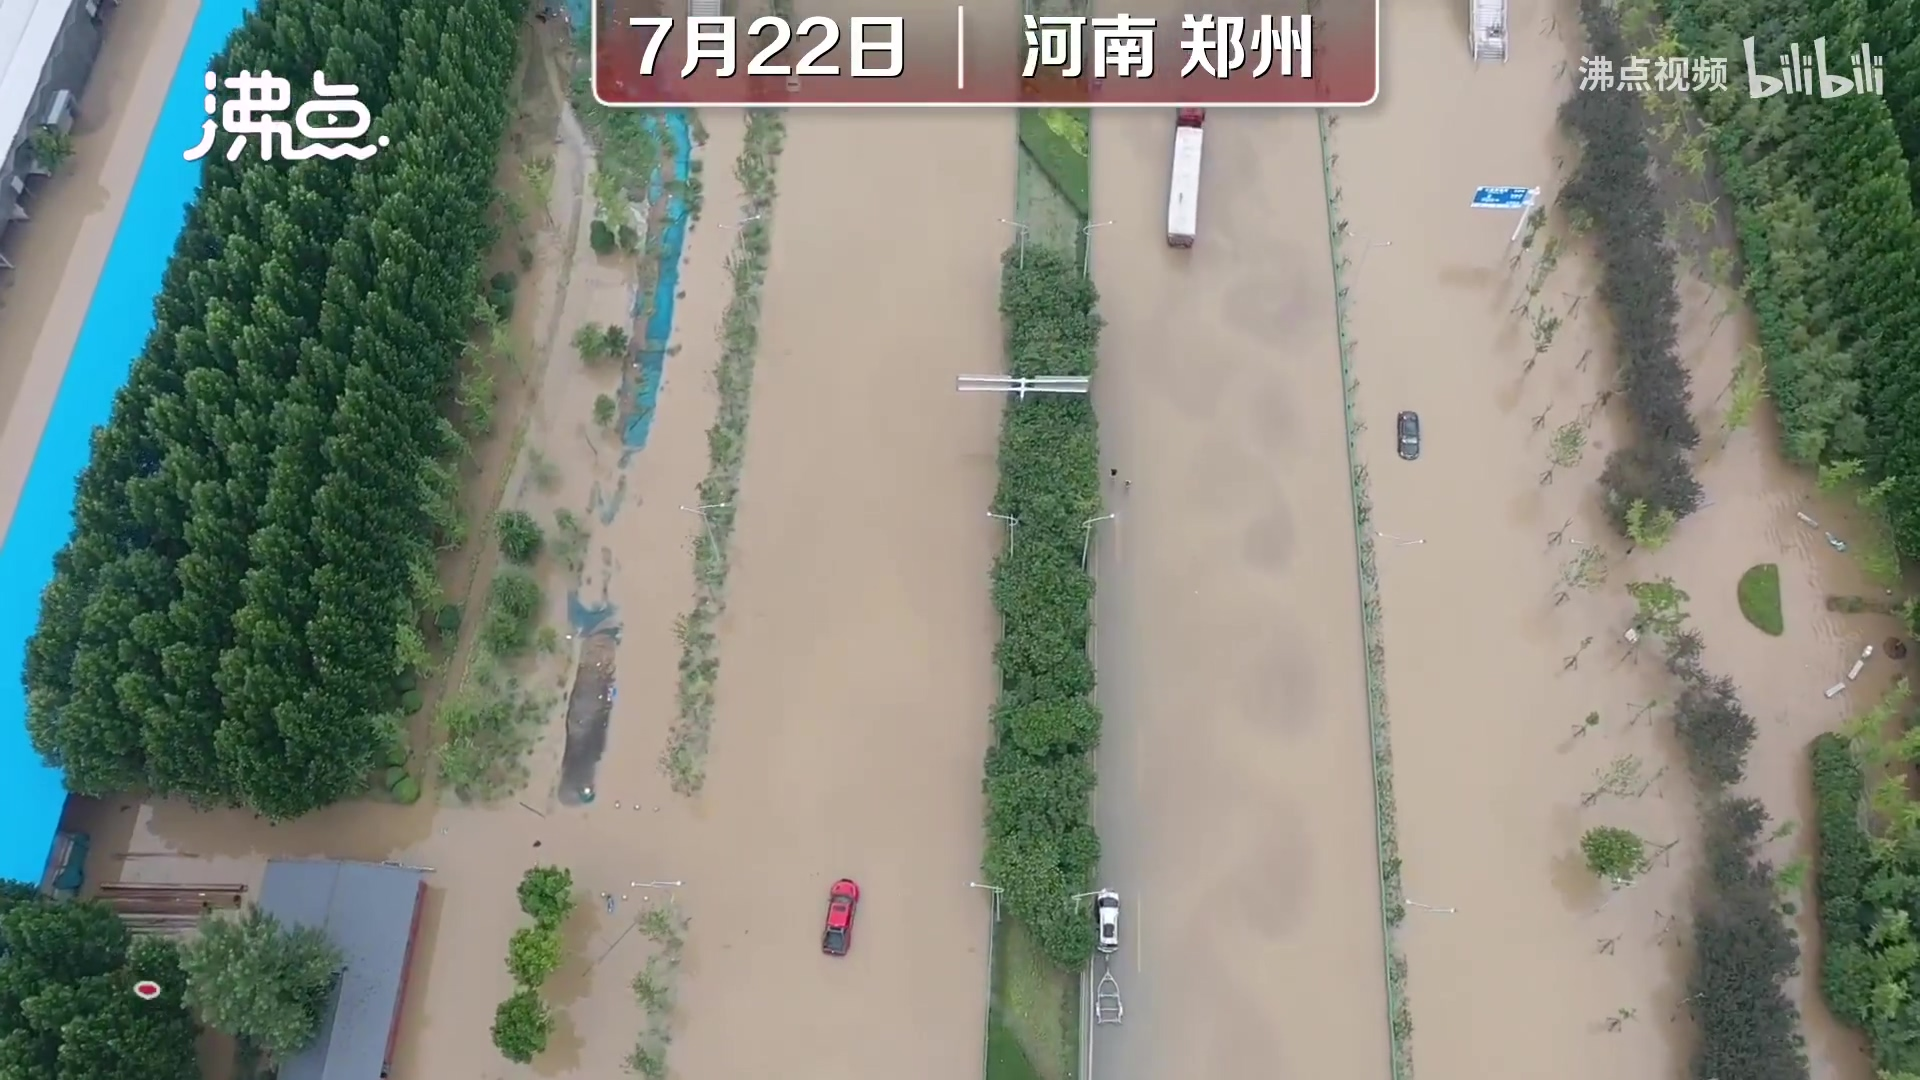puddle: (1069, 220, 1680, 1080), (458, 212, 1018, 1080)
